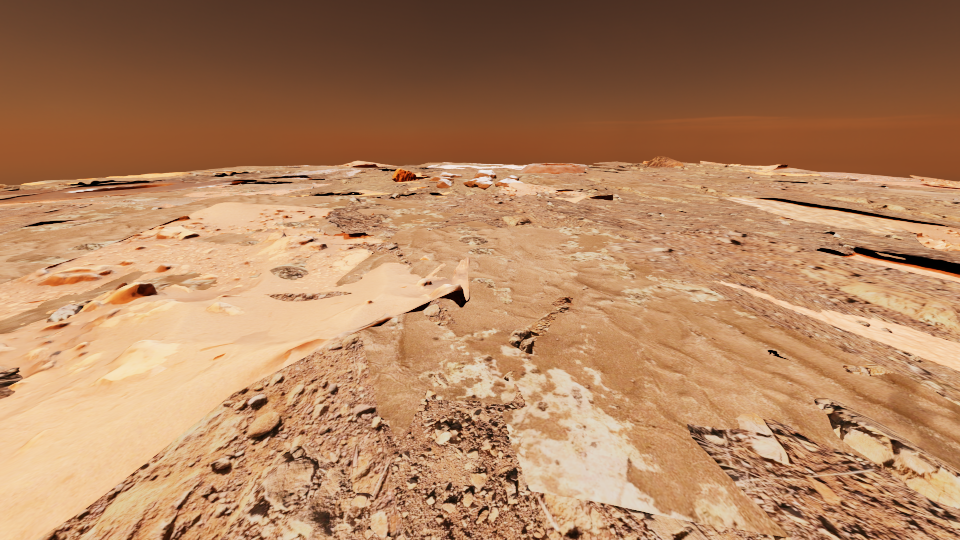bedrock: (0, 190, 663, 424), (609, 169, 959, 282), (0, 197, 213, 246), (639, 216, 777, 283), (893, 413, 959, 480), (809, 315, 921, 338), (507, 181, 616, 190), (141, 217, 195, 234), (480, 174, 566, 180), (883, 179, 904, 190), (633, 345, 646, 361), (610, 173, 637, 177), (279, 192, 303, 195)
hole: (924, 188, 959, 193)
rocks: (798, 168, 893, 194), (796, 154, 839, 164), (823, 157, 861, 165)
sand: (0, 269, 649, 539), (0, 179, 482, 258), (816, 398, 943, 539), (806, 156, 959, 171), (697, 154, 822, 165), (454, 177, 531, 194), (626, 167, 694, 177), (381, 190, 436, 200), (463, 258, 496, 265), (540, 195, 582, 200), (0, 212, 41, 216), (764, 249, 774, 260), (898, 180, 949, 182), (548, 178, 573, 182), (496, 263, 507, 267)
soil: (518, 175, 959, 539), (0, 310, 177, 374), (0, 231, 186, 274), (0, 260, 163, 298), (878, 463, 959, 539), (407, 196, 528, 243), (0, 308, 98, 344), (0, 193, 216, 207), (245, 187, 402, 205), (290, 245, 344, 276), (891, 173, 959, 196), (510, 221, 595, 239), (665, 165, 785, 174), (144, 211, 202, 221), (526, 179, 572, 186), (699, 189, 750, 194), (0, 221, 31, 227), (89, 221, 120, 225), (448, 184, 469, 189), (358, 180, 392, 183), (787, 173, 819, 176), (528, 243, 542, 249), (890, 165, 907, 169), (7, 228, 28, 231)
